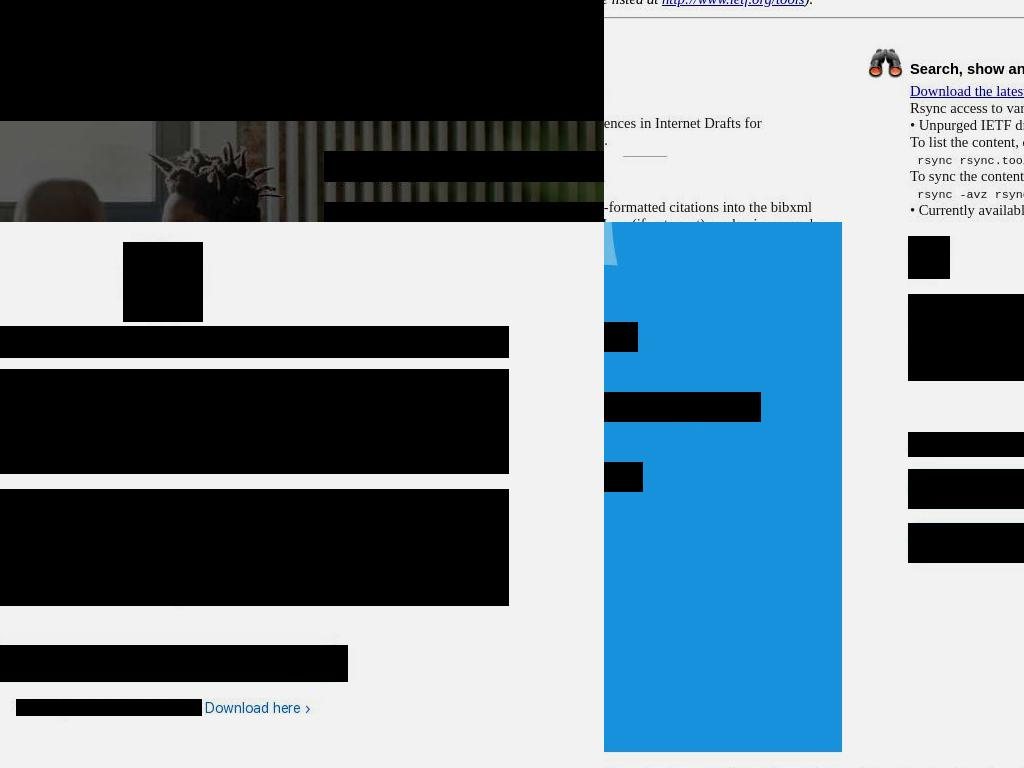button: (0, 645, 348, 682), (908, 469, 1024, 509), (908, 523, 1024, 563)
heading: (0, 0, 604, 121), (0, 369, 509, 474), (0, 326, 509, 358)
image: (123, 242, 203, 322), (908, 236, 950, 279), (867, 45, 903, 81)
link: (909, 82, 1024, 99), (204, 699, 310, 716), (662, 0, 804, 7)
text: (0, 489, 509, 606), (908, 294, 1024, 381), (324, 151, 604, 182), (604, 198, 837, 222), (604, 114, 762, 148), (604, 392, 761, 422), (16, 699, 202, 716), (908, 432, 1024, 457), (909, 60, 1024, 77), (909, 99, 1024, 116), (909, 116, 1024, 133), (909, 133, 1024, 150), (909, 167, 1024, 184), (909, 201, 1024, 218), (917, 153, 1024, 168), (917, 187, 1024, 202), (604, 462, 643, 492), (909, 218, 1024, 222), (804, 0, 814, 7)
